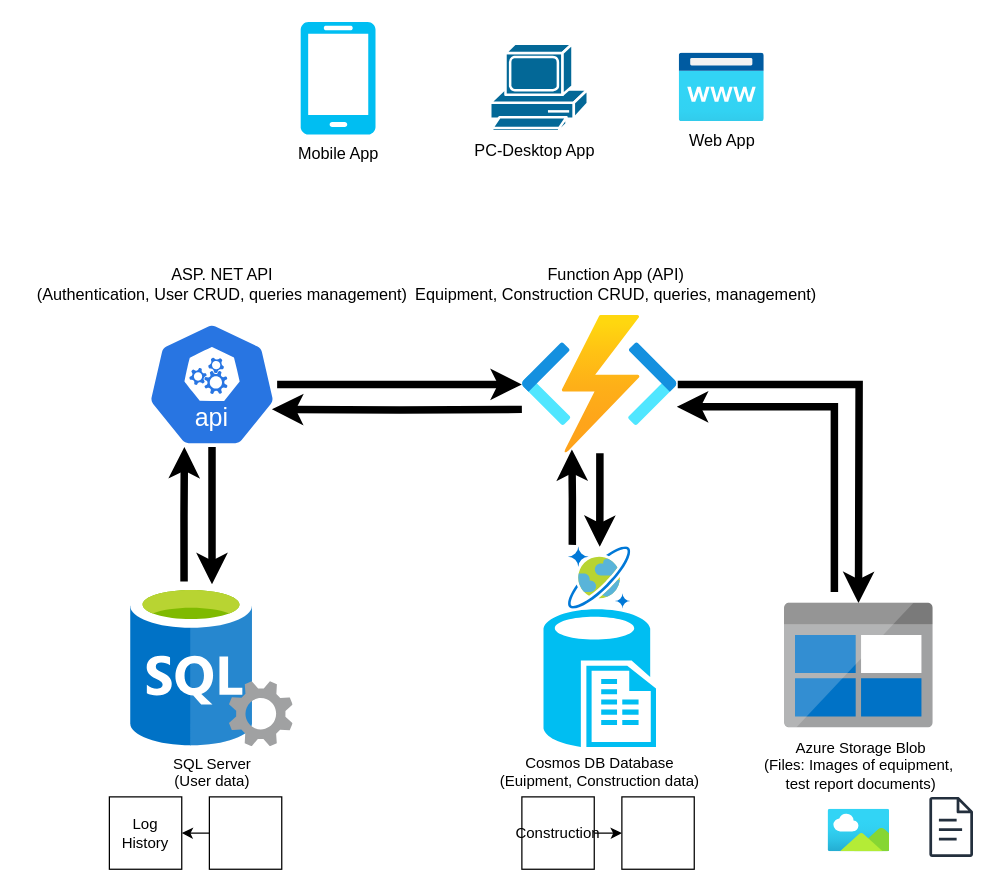
This 994x891 diagram has some shape labels left out. Each missing label, with the centre of its shape:
"Equipment" goes at point 657,832.
"User" goes at point 245,832.
